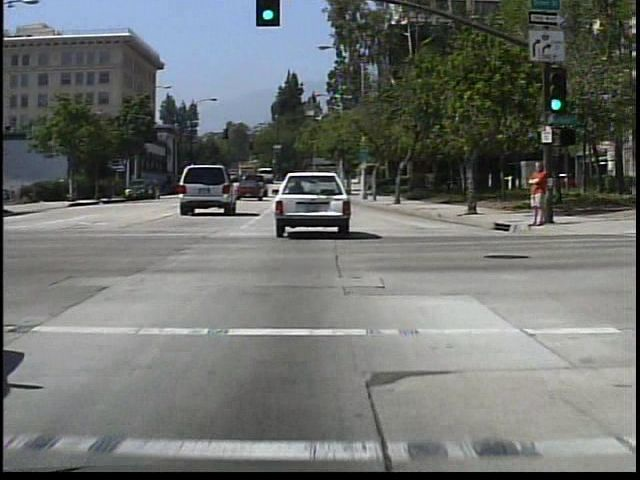person: (525, 158, 552, 230)
